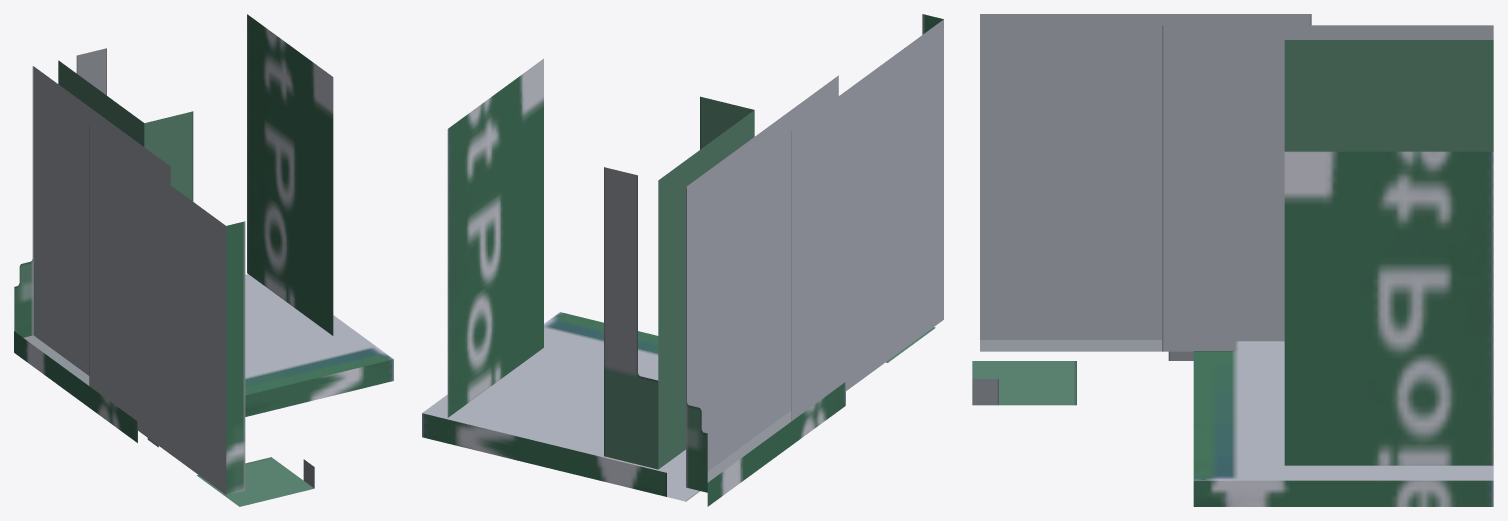
The model's file is section-1.obj.
3 renders of one model, left to right at view 1: azimuth 30°, elevation 25°; view 2: azimuth 150°, elevation 25°; view 3: azimuth 270°, elevation 25°, orthographic. The views are drawn at different scales.
Size of the model in its own units: 0.7867 by 0.8278 by 1.14.
